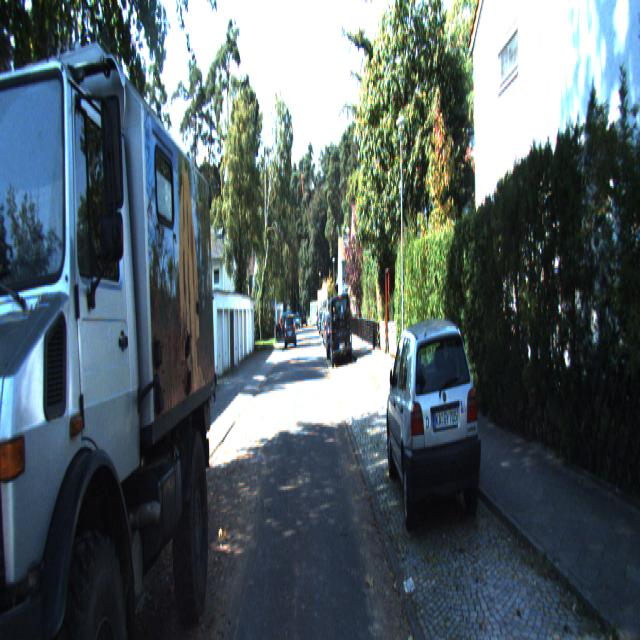Car: (0, 0, 220, 639), (382, 315, 487, 549), (330, 290, 352, 364), (284, 314, 296, 348)
